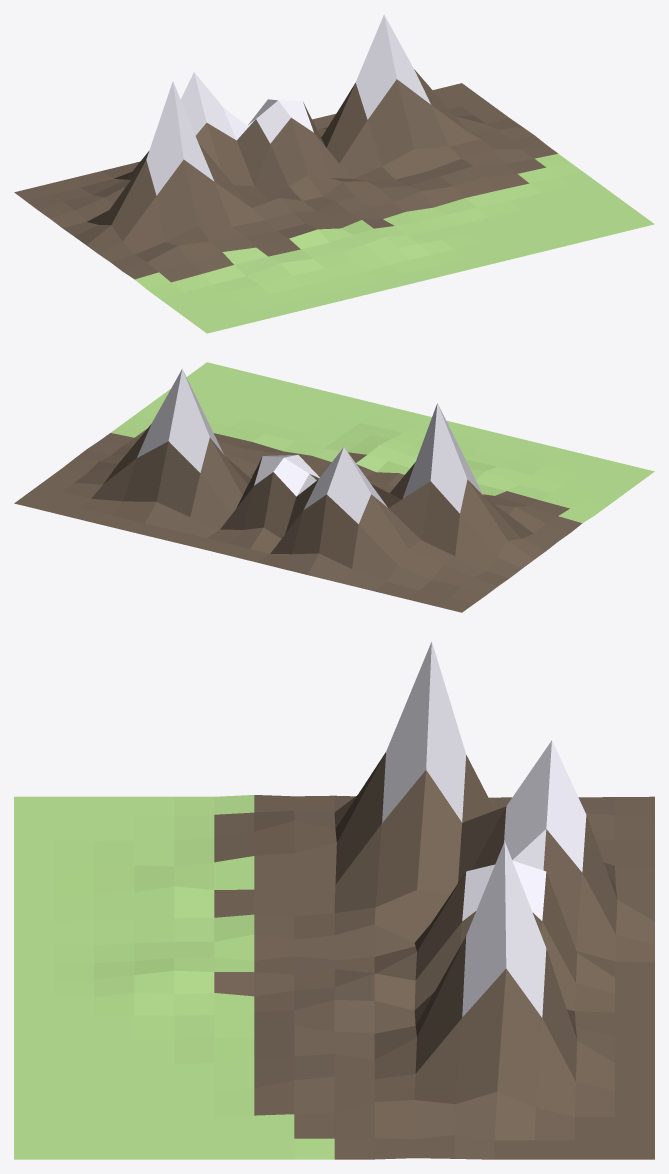
Rendered from mountain.glb.
3 renders of one model, top to bottom at view 1: azimuth 30°, elevation 25°; view 2: azimuth 150°, elevation 25°; view 3: azimuth 270°, elevation 25°, orthographic. The views are drawn at different scales.
Visible parts, largest first — view 1: Sahne; view 2: Sahne; view 3: Sahne.
Boxes of the visible parts, x1,y1,x2,y2 form: Sahne: (14,14,654,333); Sahne: (14,362,654,612); Sahne: (14,641,654,1159).
Bounding box in the file's own units: 2126 × 630 × 1586.
